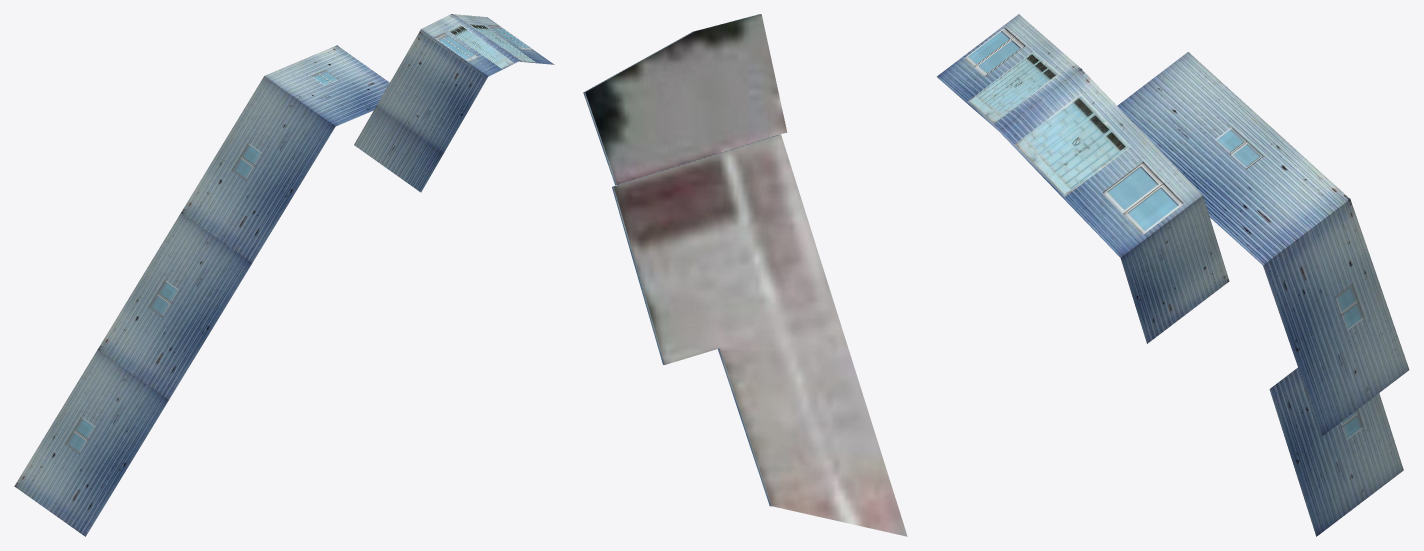
The picture shows the model from 3 angles, left to right: view 1: azimuth 30°, elevation 25°; view 2: azimuth 150°, elevation 25°; view 3: azimuth 270°, elevation 25°; orthographic projection. The views are drawn at different scales.
Bounding box in the file's own units: 21.18 × 22 × 14.7.
5 materials, 5 textured.
